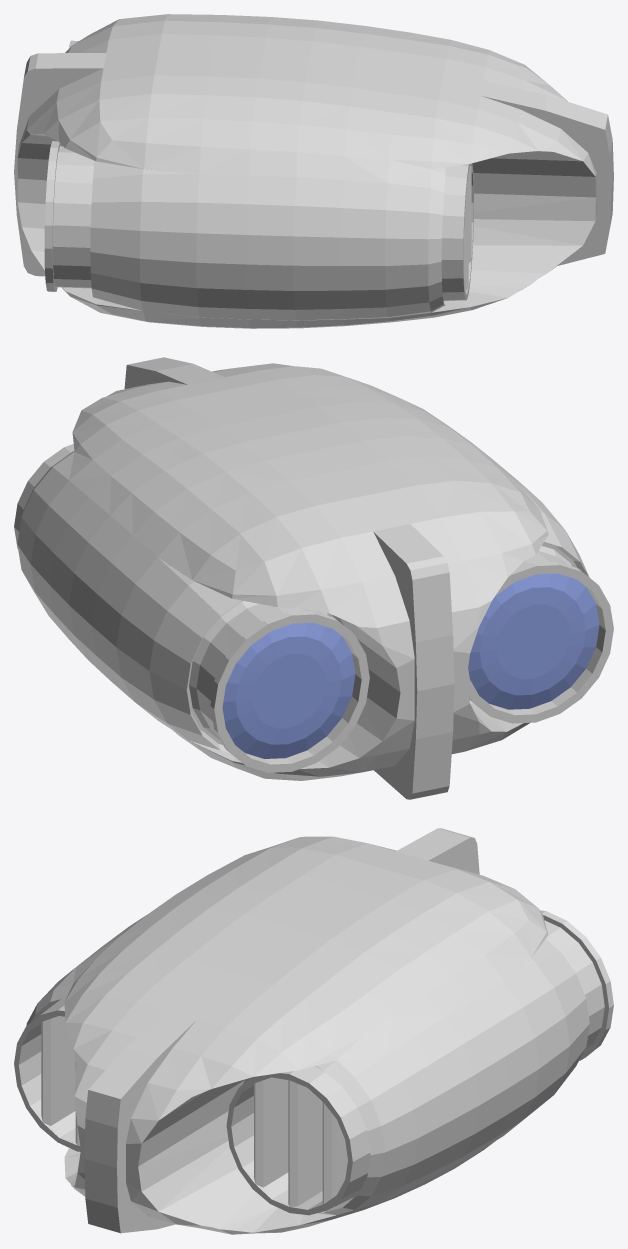
Rendered from Archie.glb.
3 views of the same model, one above another, from view 1: azimuth 30°, elevation 25°; view 2: azimuth 150°, elevation 25°; view 3: azimuth 270°, elevation 25° (orthographic). The views are drawn at different scales.
Parts seen in each view (by area): view 1: Archie; view 2: Archie; view 3: Archie.
Part boxes in pixels (bbox=[...]): Archie: bbox=[14, 14, 613, 328]; Archie: bbox=[14, 357, 613, 799]; Archie: bbox=[14, 828, 613, 1234].
Size of the model in its own units: 0.4772 by 0.2096 by 0.458.
